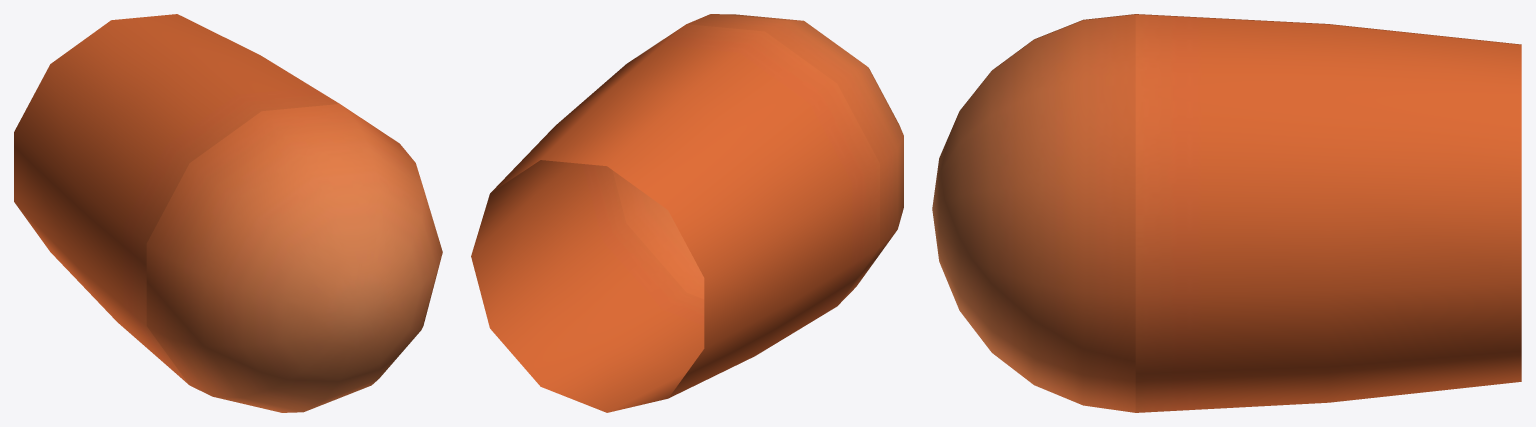
Rendered from foxtail4.obj.
3 renders of one model, left to right at view 1: azimuth 30°, elevation 25°; view 2: azimuth 150°, elevation 25°; view 3: azimuth 270°, elevation 25°, orthographic. The views are drawn at different scales.
Visible parts, largest first — view 1: tail4; view 2: tail4; view 3: tail4.
Part boxes in pixels (x1,y1,x2,y2): tail4: (14, 14, 442, 412); tail4: (471, 14, 903, 412); tail4: (932, 14, 1521, 412).
Size of the model in its own units: 0.1687 by 0.1704 by 0.2495.
1 material, 1 textured.
